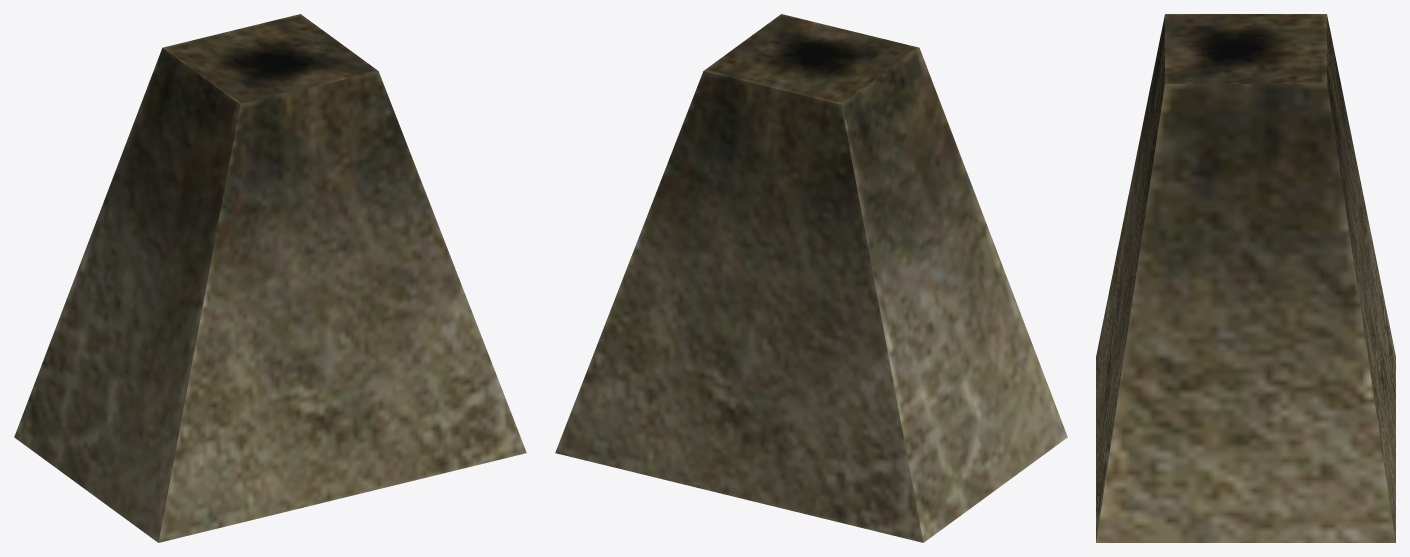
Rendered from hrt_pipe4.glb.
The picture shows the model from 3 angles, left to right: view 1: azimuth 30°, elevation 25°; view 2: azimuth 150°, elevation 25°; view 3: azimuth 270°, elevation 25°; orthographic projection. The views are drawn at different scales.
Parts seen in each view (by area): view 1: hrt_pipe4; view 2: hrt_pipe4; view 3: hrt_pipe4.
Part boxes in pixels (x1,y1,x2,y2): hrt_pipe4: (14, 14, 526, 542); hrt_pipe4: (555, 14, 1067, 542); hrt_pipe4: (1096, 14, 1395, 542).
Size of the model in its own units: 0.7981 by 0.7988 by 0.5416.
1 material, 1 textured.
